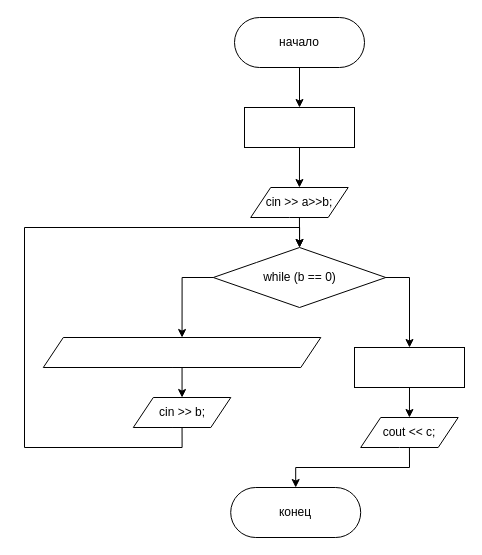
Image size: 482x555. Some labels were removed from this diagram. The centre of each missing label's shape, as x and y in pixels:
c = a / b;: point 409,367
cout << "Please enter a new diveder" << endl;: point 181,352
float a, b,c ;: point 299,127
